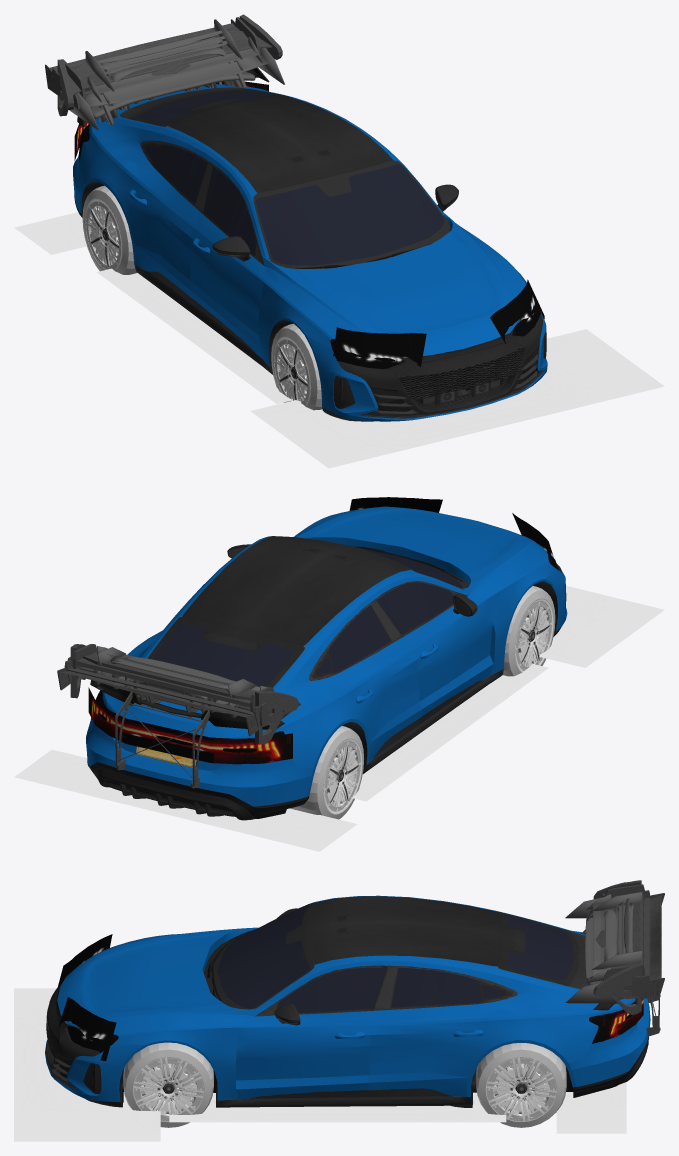
Rendered from Audi_Etron.fbx.
3 views of the same model, one above another, from view 1: azimuth 30°, elevation 25°; view 2: azimuth 150°, elevation 25°; view 3: azimuth 270°, elevation 25° (orthographic). The views are drawn at different scales.
Parts seen in each view (by area): view 1: Body, Details, Glass1, Front, Door_2, S_24, Right, pPlane2, S_6, S_14, Back, pPlane1 (+7 smaller); view 2: Body, Details, Door_2, Glass1, Back, Front, Right, pPlane4, S_8, S_6, S_3, pPlane3 (+11 smaller); view 3: Body, Details, Door_1, Glass1, Front, Left, Back, Tyre_Rubber1_2, Tyre_Rubber1, S_24, S_6, S_8 (+18 smaller).
Part boxes in pixels (box(x1,y1,x2,y2)): Body: box(73, 84, 547, 421); Details: box(74, 87, 546, 421); Glass1: box(78, 90, 538, 362); Front: box(250, 329, 664, 468); Door_2: box(190, 165, 266, 357); S_24: box(69, 36, 284, 129); Right: box(97, 268, 292, 403); pPlane2: box(333, 327, 426, 368); S_6: box(57, 14, 282, 116); S_14: box(85, 19, 242, 109); Back: box(14, 212, 86, 254); pPlane1: box(490, 279, 544, 344); Body: box(86, 506, 567, 806); Details: box(87, 536, 566, 820); Door_2: box(376, 581, 493, 717); Glass1: box(93, 548, 558, 763); Back: box(14, 749, 357, 851); Front: box(539, 585, 664, 667); Right: box(351, 663, 548, 801); pPlane4: box(168, 728, 292, 764); S_8: box(57, 667, 260, 788); S_6: box(70, 644, 298, 744); S_3: box(73, 644, 273, 717); pPlane3: box(88, 687, 168, 753); Body: box(45, 895, 650, 1101); Details: box(45, 896, 648, 1107); Door_1: box(236, 965, 387, 1098); Glass1: box(68, 904, 632, 1046); Front: box(14, 988, 160, 1141); Left: box(169, 1092, 506, 1122); Back: box(556, 1082, 626, 1133); Tyre_Rubber1_2: box(476, 1043, 566, 1127); Tyre_Rubber1: box(123, 1042, 213, 1127); S_24: box(565, 894, 618, 1003); S_6: box(593, 880, 641, 1014); S_8: box(635, 893, 664, 1036).
Size of the model in its own units: 241 by 116 by 433.
